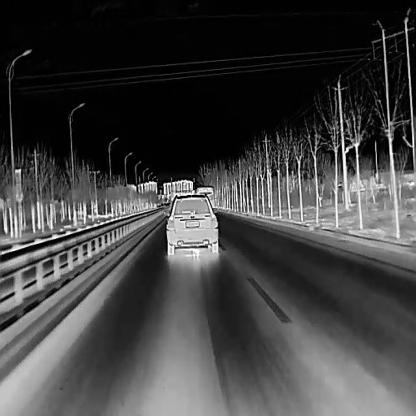car: (164, 192, 217, 255)
